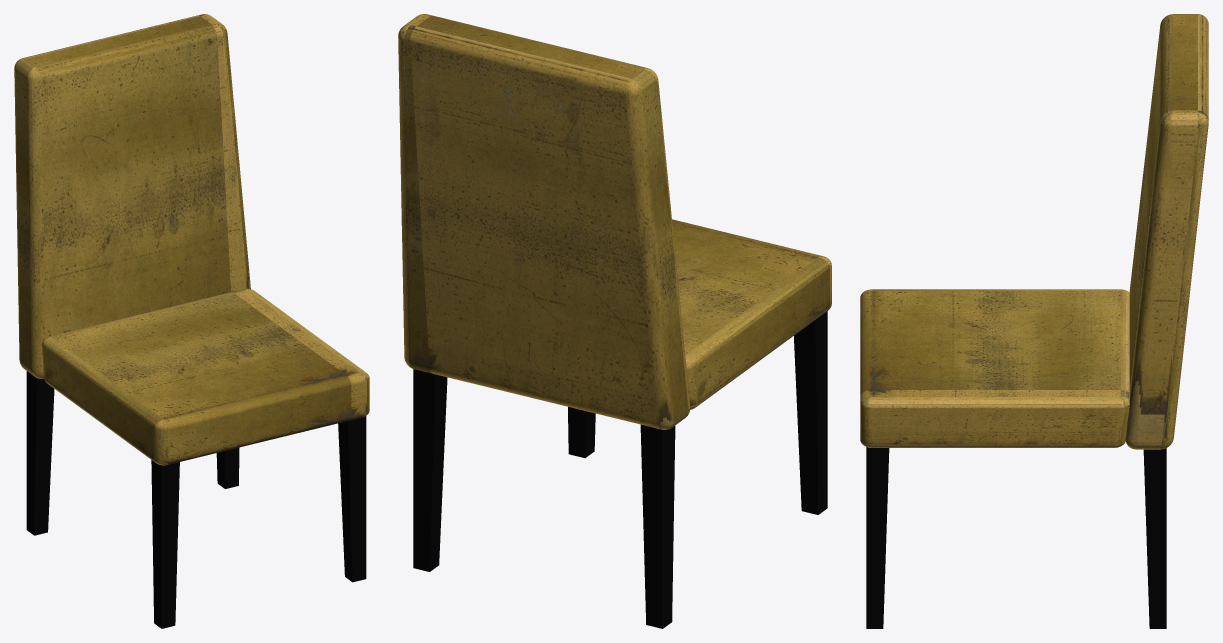
The model's file is Desk Chair.dae.
The picture shows the model from 3 angles, left to right: view 1: azimuth 30°, elevation 25°; view 2: azimuth 150°, elevation 25°; view 3: azimuth 270°, elevation 25°; orthographic projection. The views are drawn at different scales.
Visible parts, largest first — view 1: group_2, group_1, Group_1 (×4); view 2: group_2, Group_1 (×4), group_1; view 3: group_1, group_2, Group_1 (×2).
Part boxes in pixels (bbox=[...]): group_2: bbox=[14, 14, 250, 378]; group_1: bbox=[41, 288, 369, 465]; Group_1 (×4): bbox=[26, 371, 366, 628]; group_2: bbox=[398, 14, 690, 429]; Group_1 (×4): bbox=[413, 311, 827, 628]; group_1: bbox=[672, 219, 831, 409]; group_1: bbox=[860, 289, 1129, 447]; group_2: bbox=[1125, 14, 1208, 449]; Group_1 (×2): bbox=[866, 447, 1166, 628].
Size of the model in its own units: 18.54 by 22.84 by 36.83.
